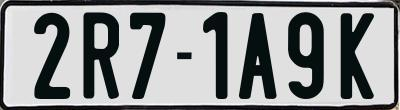1: (200, 10, 226, 98)
2: (32, 10, 68, 99)
7: (129, 10, 167, 101)
9: (286, 12, 328, 99)
A: (239, 10, 279, 96)
K: (339, 11, 373, 100)
R: (83, 11, 120, 100)
